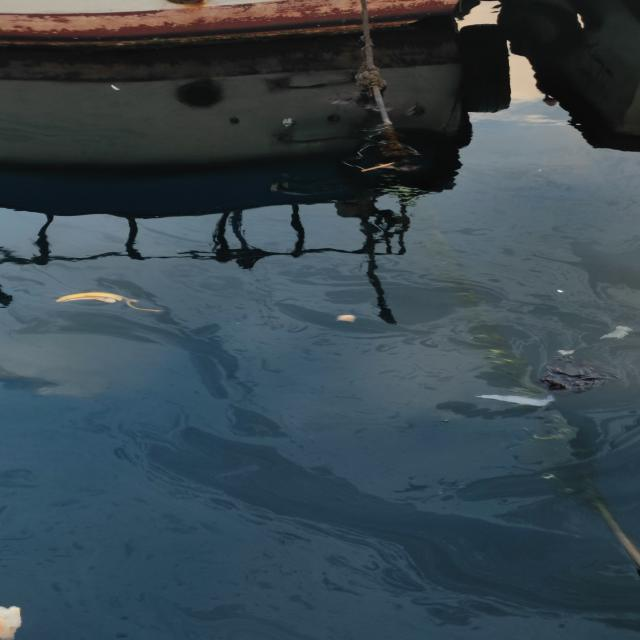Plastic bag: (535, 356, 625, 397), (598, 324, 634, 341)
Plastic packaging: (472, 393, 556, 407), (554, 351, 574, 356)
